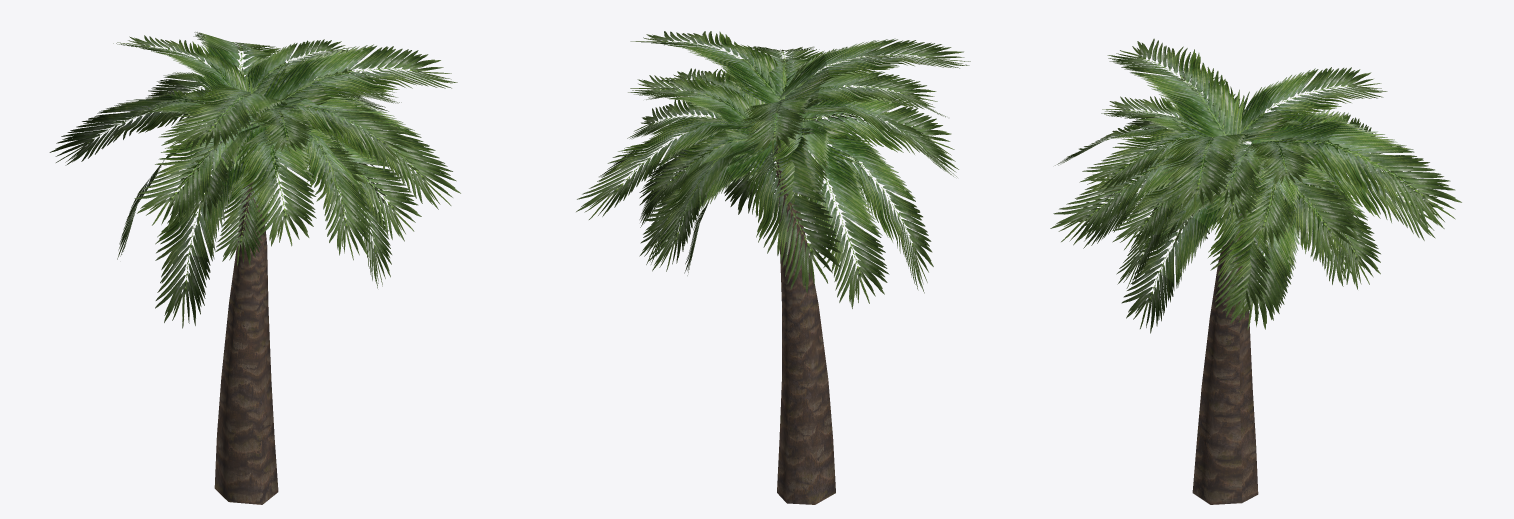
Rendered from lowpalm1.fbx.
3 renders of one model, left to right at view 1: azimuth 30°, elevation 25°; view 2: azimuth 150°, elevation 25°; view 3: azimuth 270°, elevation 25°, orthographic. The views are drawn at different scales.
Visible parts, largest first — view 1: sketch-1629725718620.001, tree; view 2: sketch-1629725718620.001, tree; view 3: sketch-1629725718620.001, tree.
Part boxes in pixels (x1=…): sketch-1629725718620.001: x1=49, y1=32, x2=460, y2=328; tree: x1=214, y1=182, x2=278, y2=504; sketch-1629725718620.001: x1=576, y1=31, x2=970, y2=308; tree: x1=775, y1=145, x2=835, y2=504; sketch-1629725718620.001: x1=1050, y1=38, x2=1461, y2=333; tree: x1=1192, y1=213, x2=1258, y2=504.
Size of the model in its own units: 517 by 593 by 626.
